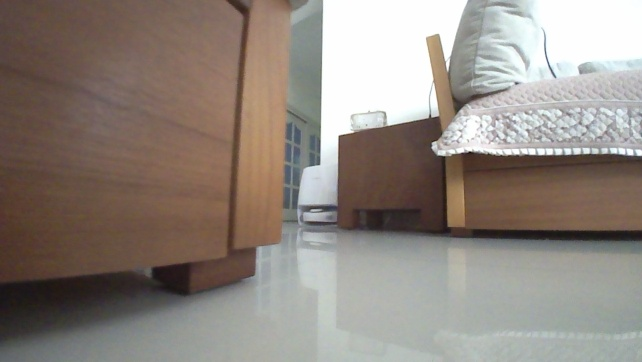sofa1: (425, 0, 641, 241)
wire: (425, 80, 437, 120)
